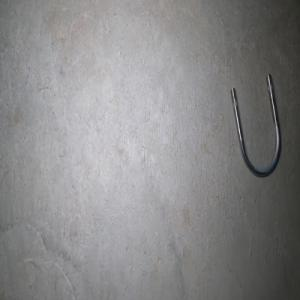ClampPart: (229, 72, 282, 178)
